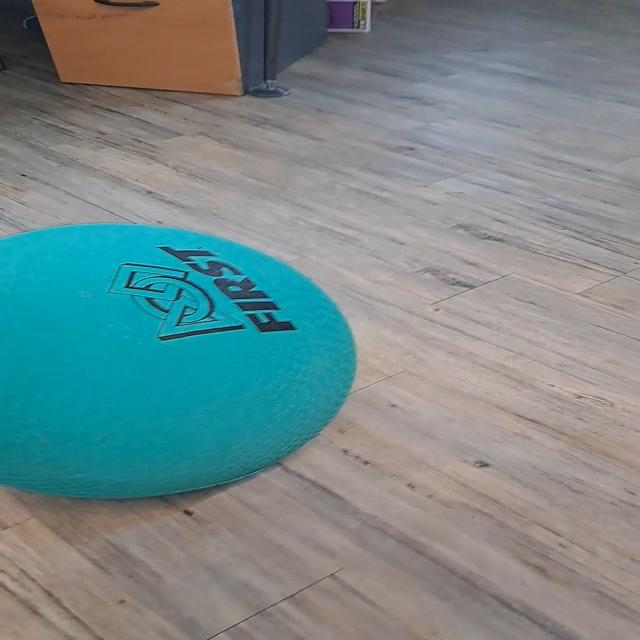ALGAE: (1, 222, 358, 500)
